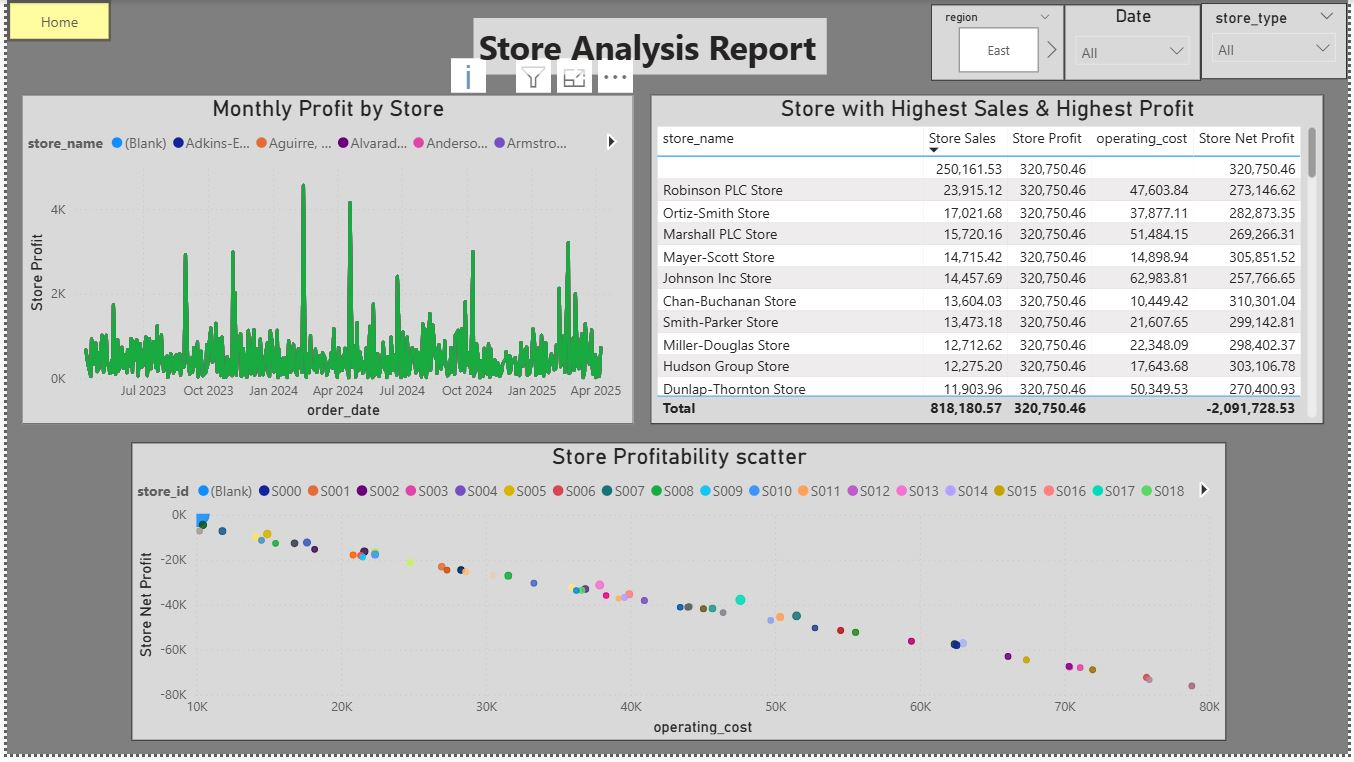

This screenshot's page, from the dashboard's own definition file:
{"tool":"powerbi","page":{"name":"Store Analysis Report","canvas":[1280,720],"ordinal":4},"visuals":[{"type":"slicer","fields":{"Values":["stores_cleaned.store_type"]},"box":[1139.9,3.1,139.6,72.9],"z":0},{"type":"lineChart","title":"Monthly Profit by Store","fields":{"Series":["stores_cleaned.store_name"],"Category":["sales_cleaned.order_date"],"Y":["stores_cleaned.Store Profit"]},"box":[14.3,90.7,583.8,314.9],"z":1000},{"type":"tableEx","title":"Store with Highest Sales & Highest Profit","fields":{"Values":["stores_cleaned.store_name","stores_cleaned.Store Sales","stores_cleaned.Store Profit","stores_cleaned.operating_cost","stores_cleaned.Store Net Profit"]},"box":[614,90.7,642.6,314.9],"z":2000},{"type":"scatterChart","title":"Store Profitability scatter","fields":{"Size":["stores_cleaned.Store Sales"],"X":["stores_cleaned.operating_cost"],"Y":["stores_cleaned.Store Net Profit"],"Series":["stores_cleaned.store_id"]},"box":[119.3,423.1,1045,284.7],"z":3000},{"type":"slicer","title":"Date","fields":{"Values":["sales_cleaned.order_date.Variation.Date Hierarchy.Year","sales_cleaned.order_date.Variation.Date Hierarchy.Quarter","sales_cleaned.order_date.Variation.Date Hierarchy.Month"]},"box":[1009.6,4.7,130.3,72.9],"z":4000},{"type":"slicer","fields":{"Values":["customers_cleaned.region"]},"box":[882.5,4.7,127.2,72.9],"z":5000},{"type":"textbox","box":[445.4,17.5,337.2,54.1],"z":6000},{"type":"actionButton","box":[0,0,100,40],"z":7000}]}

Visuals, with their boxes in screenshot pixels (x1, y1, x2, y2), scaled from the page's 1280x720 canvas onto the 1354x762 screenshot:
slicer - stores_cleaned.store_type: crop(1206, 3, 1353, 80)
"Monthly Profit by Store" lineChart: crop(15, 96, 633, 429)
"Store with Highest Sales & Highest Profit" tableEx: crop(649, 96, 1329, 429)
"Store Profitability scatter" scatterChart: crop(126, 448, 1232, 749)
"Date" slicer: crop(1068, 5, 1206, 82)
slicer - customers_cleaned.region: crop(934, 5, 1068, 82)
textbox: crop(471, 19, 828, 76)
actionButton: crop(0, 0, 106, 42)
